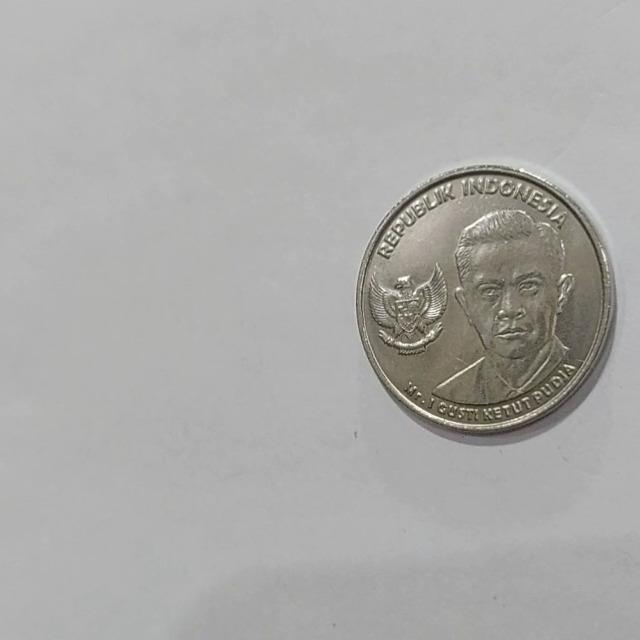Rp100: (356, 162, 617, 438), (429, 205, 579, 408)
